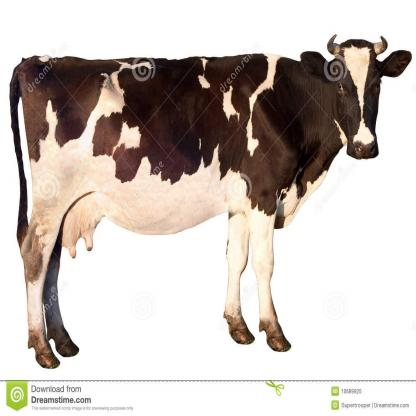cow: (9, 34, 413, 370)
